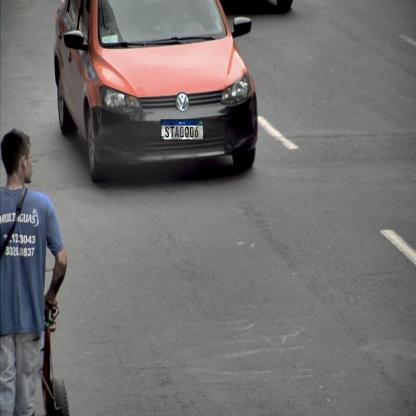PlacaM: (161, 119, 204, 141)
